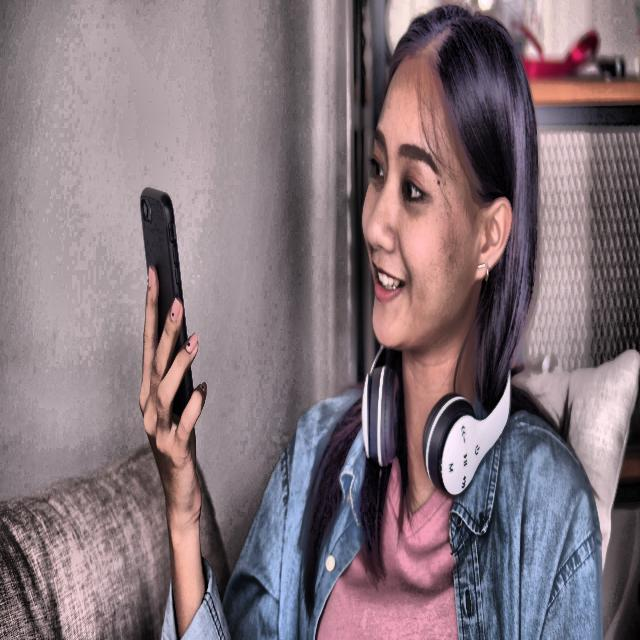Phone: (137, 186, 195, 425)
